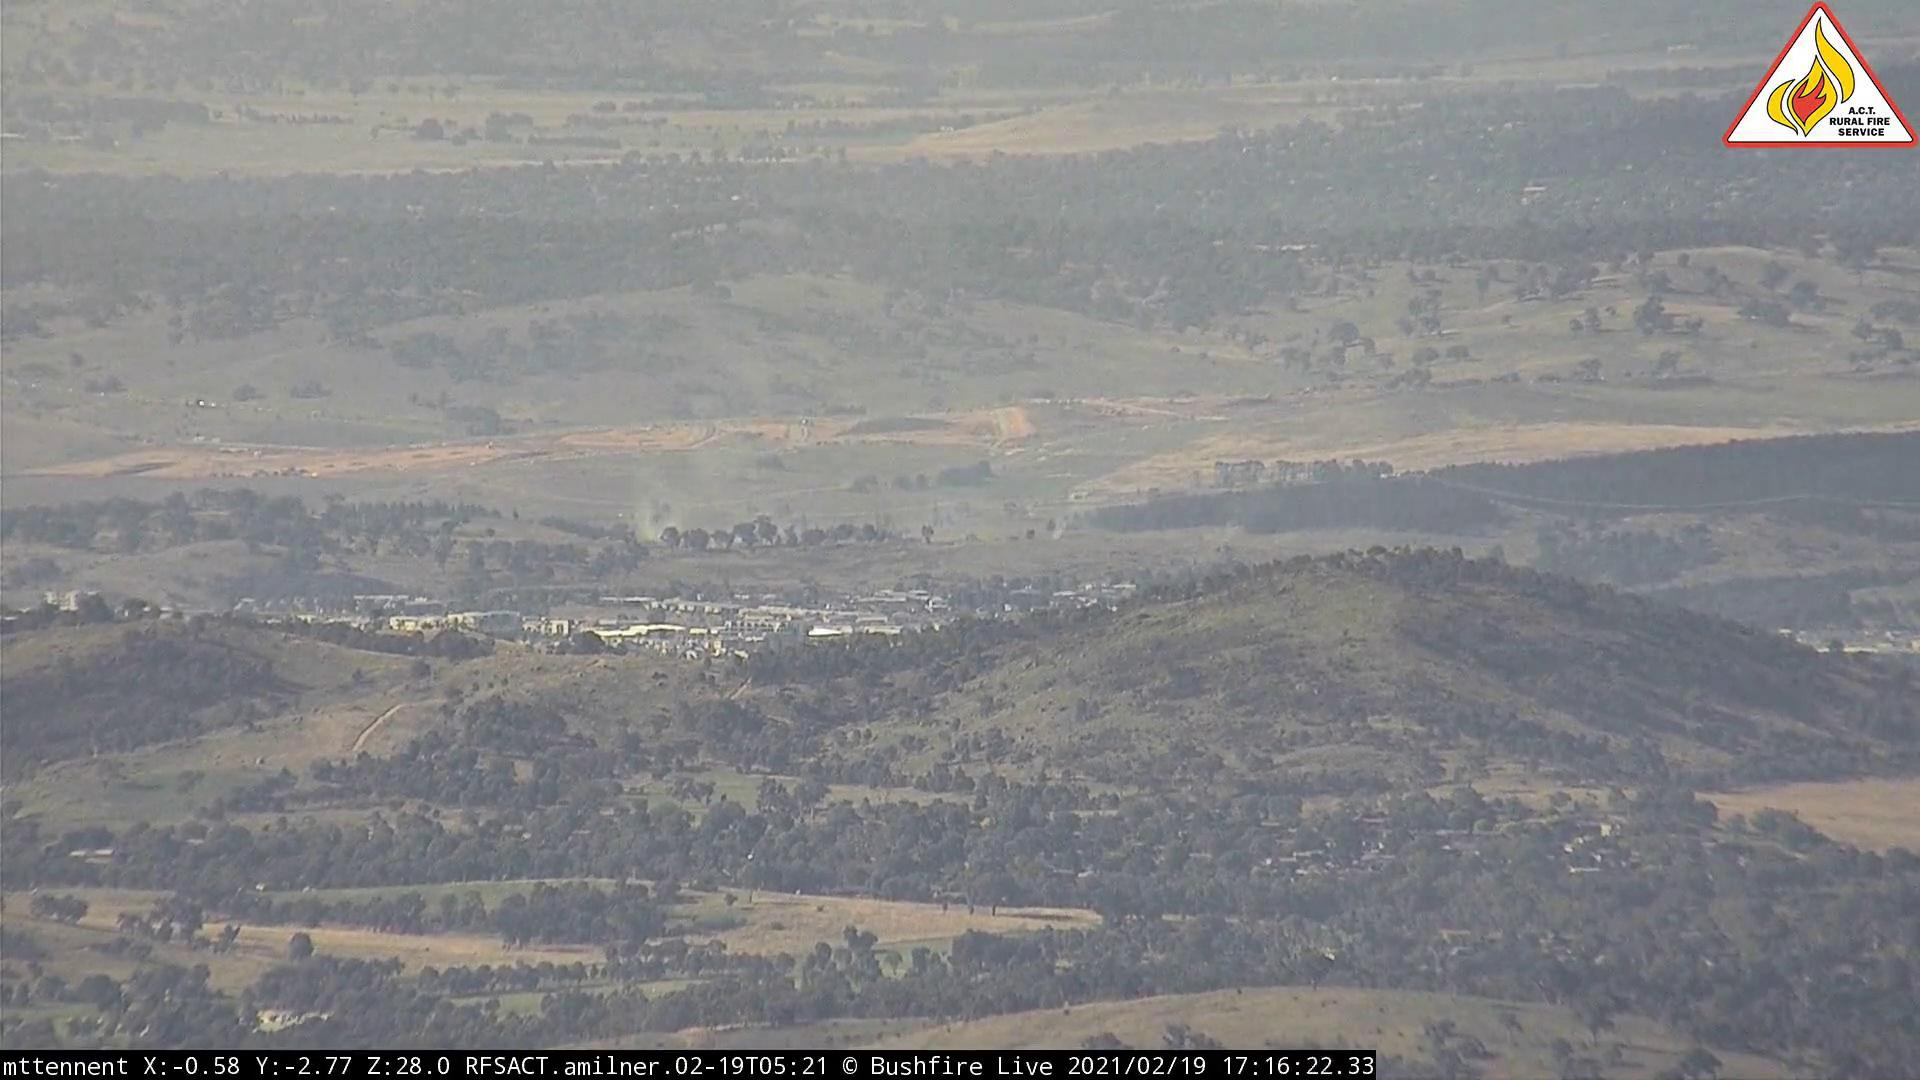instance_salient_object: (612, 406, 878, 556), (1203, 476, 1292, 559), (1046, 517, 1077, 547)
